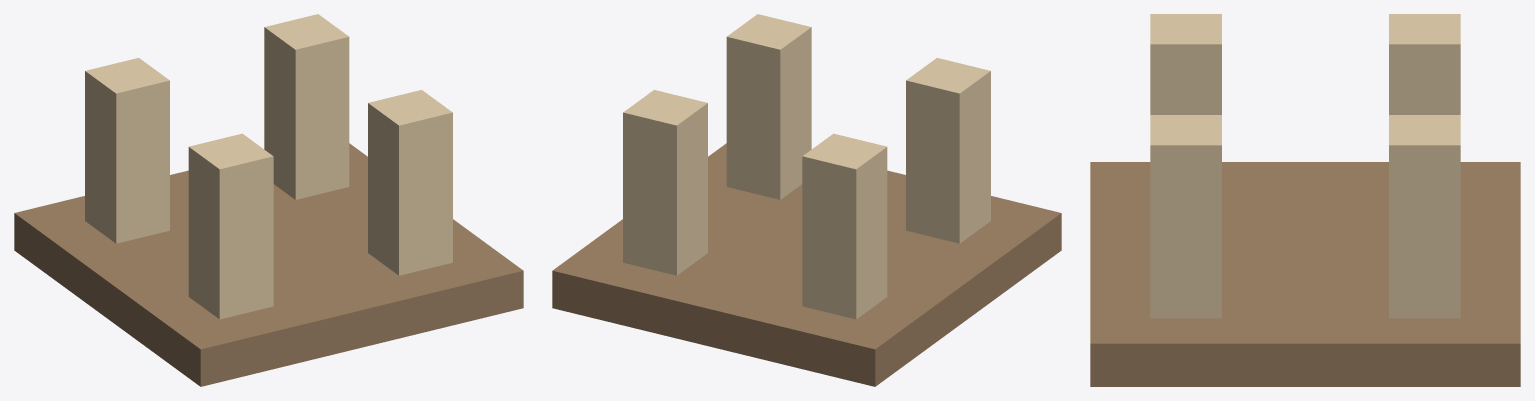
Rendered from Prop_DS_Crop_Spudlet.glb.
The picture shows the model from 3 angles, left to right: view 1: azimuth 30°, elevation 25°; view 2: azimuth 150°, elevation 25°; view 3: azimuth 270°, elevation 25°; orthographic projection. The views are drawn at different scales.
Visible parts, largest first — view 1: Prop_DS_Crop_Spudlet; view 2: Prop_DS_Crop_Spudlet; view 3: Prop_DS_Crop_Spudlet.
Part boxes in pixels (box(x1,y1,x2,y2)): Prop_DS_Crop_Spudlet: box(14, 14, 523, 386); Prop_DS_Crop_Spudlet: box(552, 14, 1061, 386); Prop_DS_Crop_Spudlet: box(1090, 14, 1520, 386).
Size of the model in its own units: 0.9 by 0.5 by 0.9.
